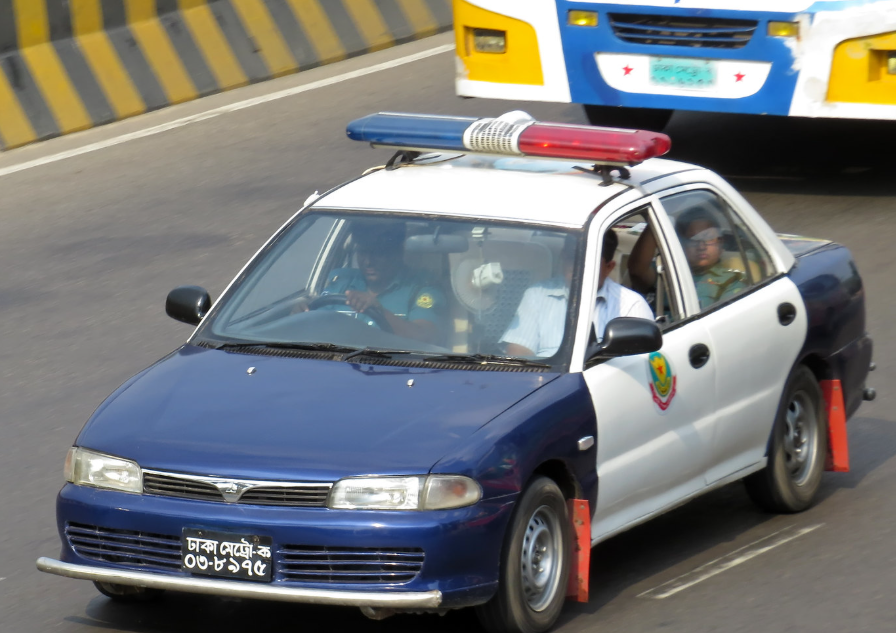Bus: (449, 0, 896, 112)
Police cars: (39, 105, 882, 609)
